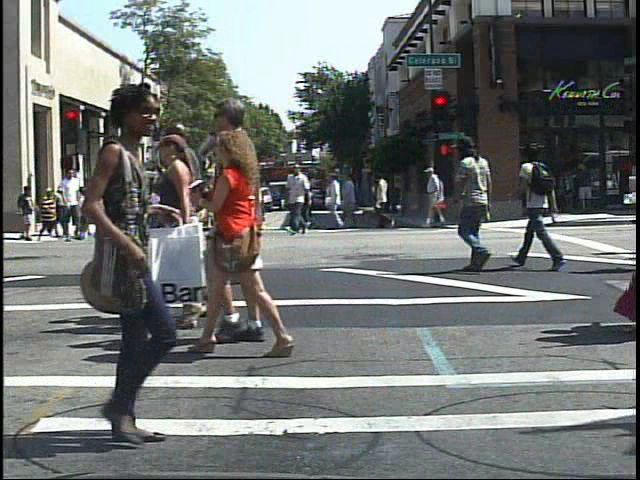person: (49, 79, 212, 452), (188, 119, 296, 363), (189, 93, 274, 346), (514, 136, 567, 275), (451, 134, 502, 277), (162, 155, 200, 248), (57, 165, 87, 246), (420, 159, 451, 232), (107, 163, 135, 243), (37, 184, 60, 242), (88, 180, 108, 223), (133, 161, 134, 243)
